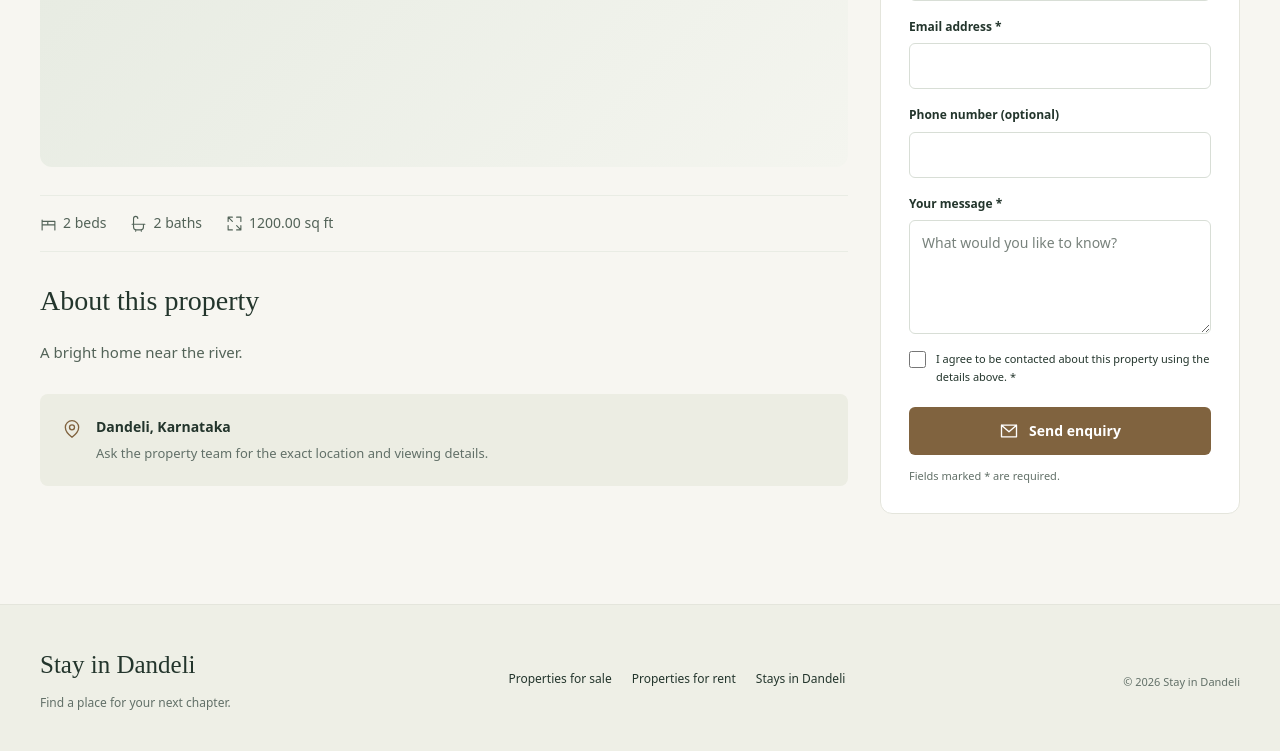
Scenario: validates all enquiry fields before issuing a request
This screenshot has width=1280, height=751.
(page scrolled)
Click the button "Send enquiry" at (1060, 431), box [909, 407, 1211, 455]
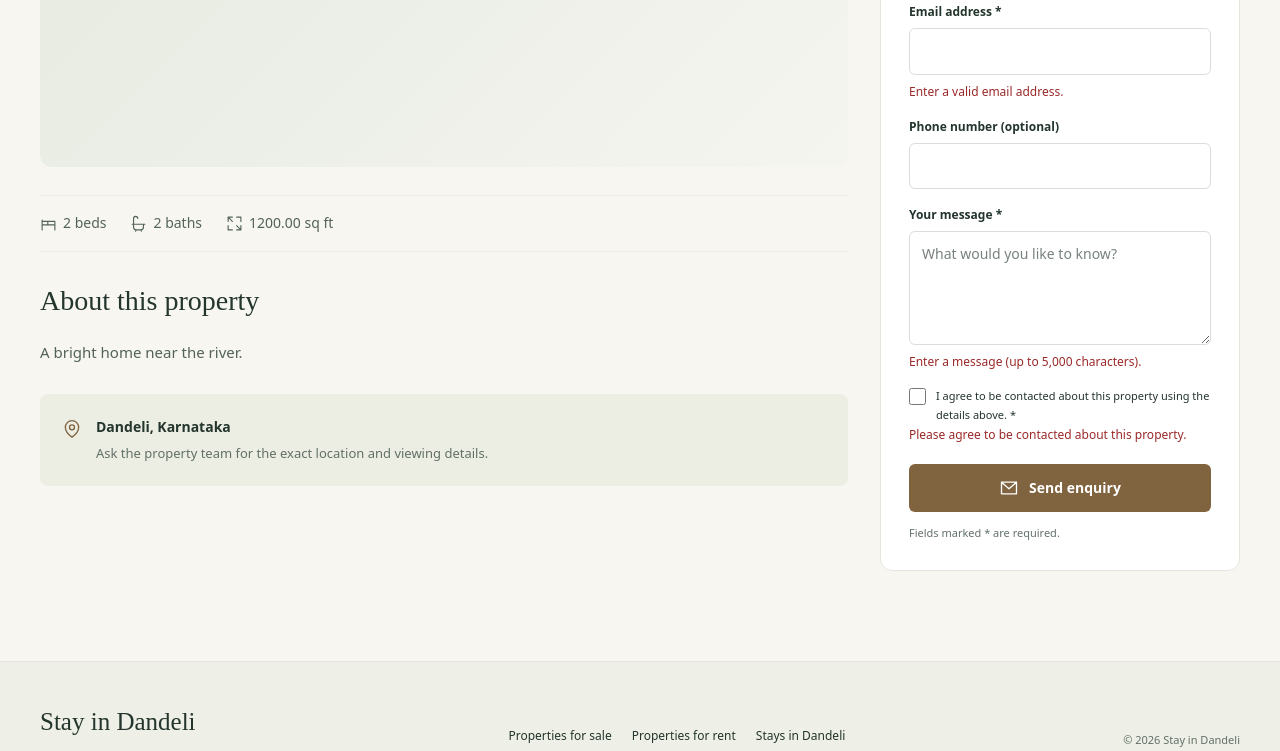
Check: the text "Please agree to be contacted about this property." is shown, box [909, 425, 1211, 444]
